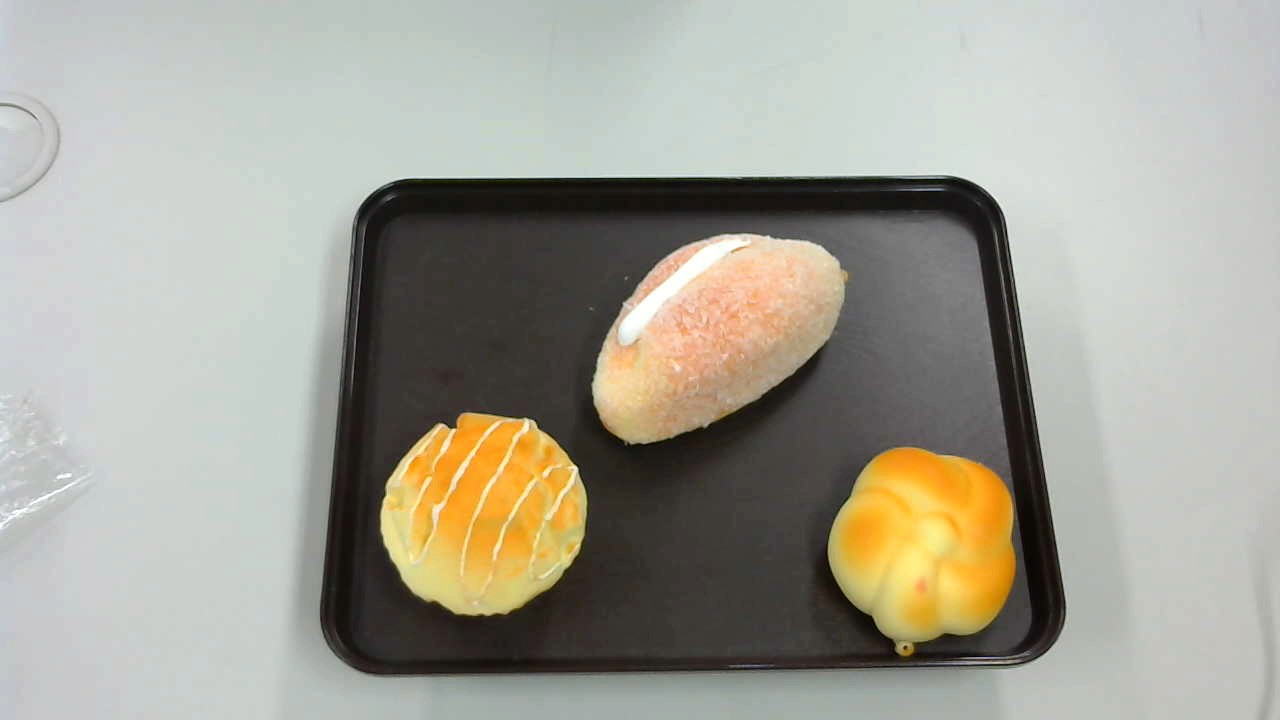coconut: (588, 232, 848, 445)
croissant: (827, 445, 1017, 657)
cupcake: (378, 412, 588, 619)
